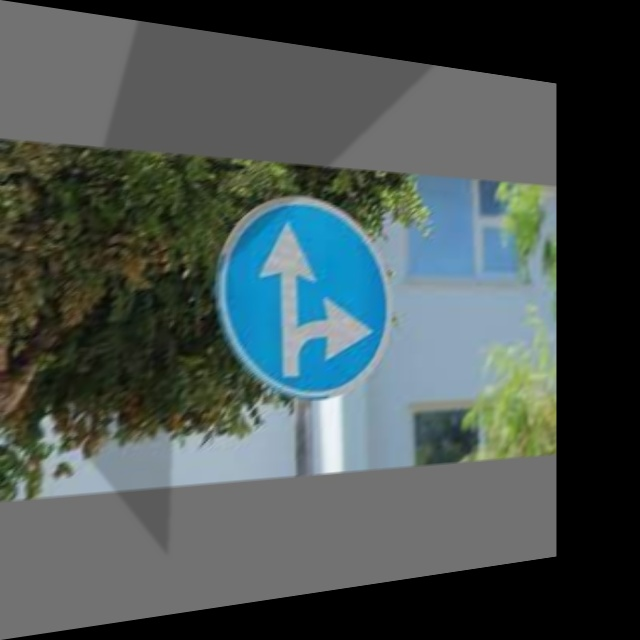Compulsory_Ahead_or_Turn_Right: (218, 190, 391, 407)
